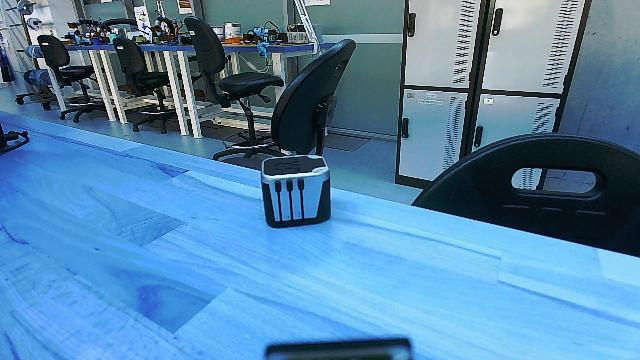adapter: (249, 150, 333, 232)
